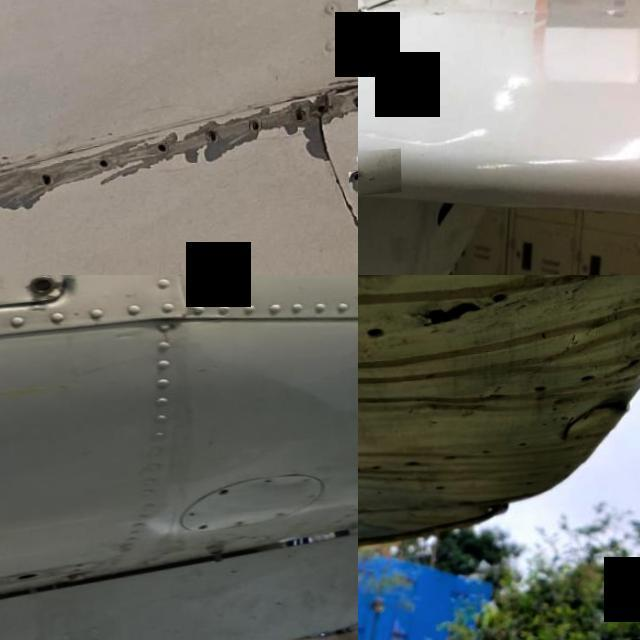Crack: (396, 278, 518, 352), (358, 153, 400, 203), (308, 71, 358, 108)
Missing_Fastener: (36, 175, 54, 189), (96, 158, 109, 173), (248, 124, 260, 138), (155, 146, 168, 158), (192, 526, 209, 534), (347, 177, 358, 189), (217, 490, 230, 500)
